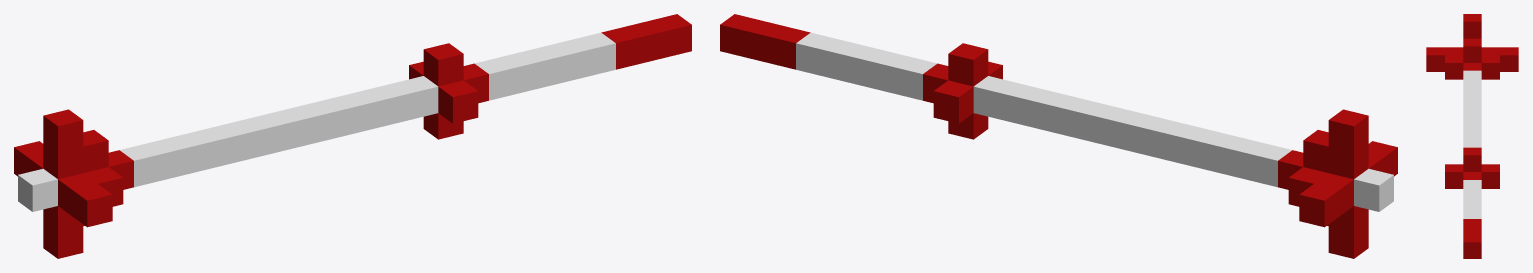
Rendered from SSMLauncherMissile2.obj.
3 renders of one model, left to right at view 1: azimuth 30°, elevation 25°; view 2: azimuth 150°, elevation 25°; view 3: azimuth 270°, elevation 25°, orthographic. The views are drawn at different scales.
Size of the model in its own units: 2.6 by 0.5 by 0.5.
1 material, 1 textured.
